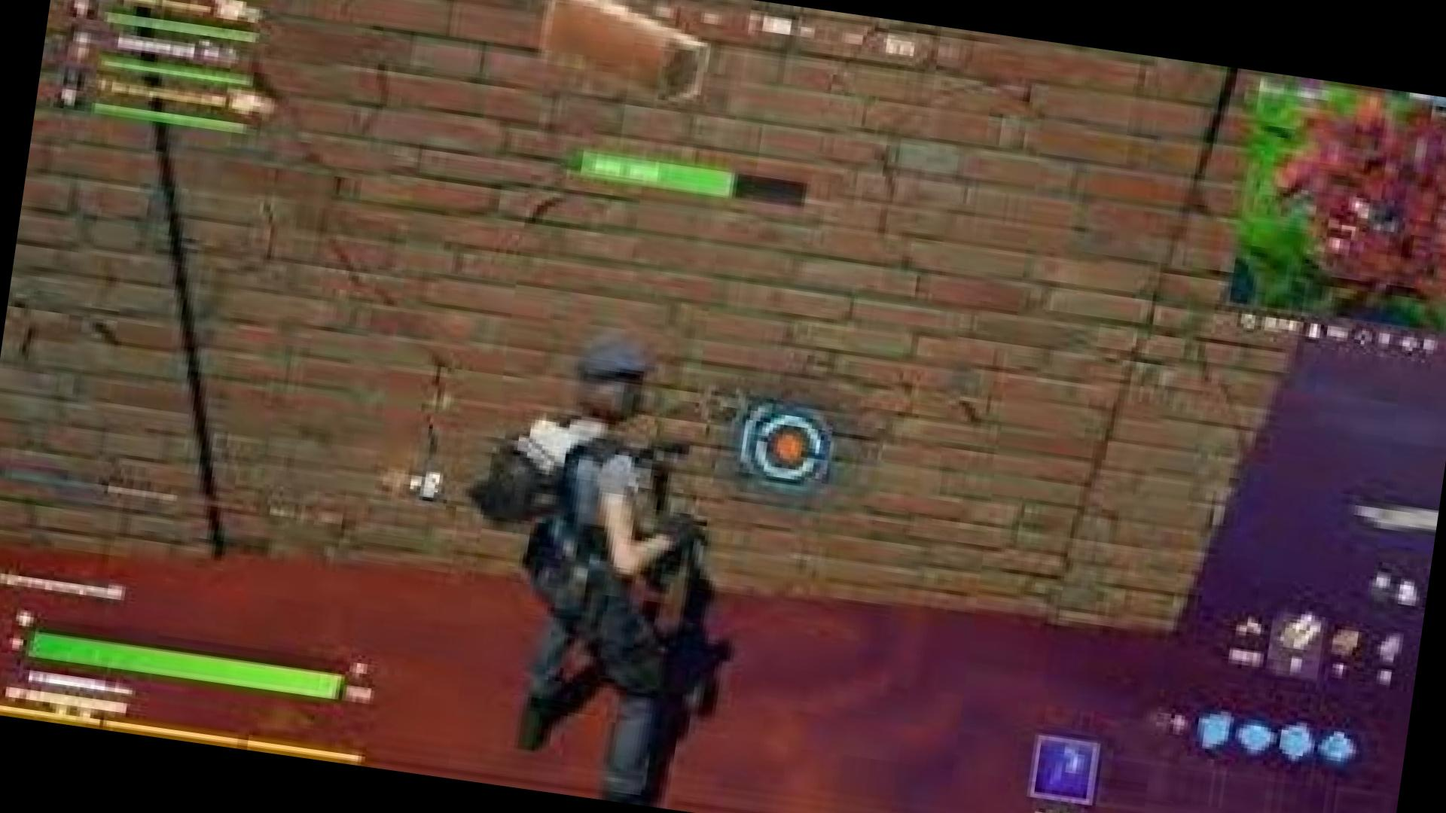player: (733, 394, 848, 511)
